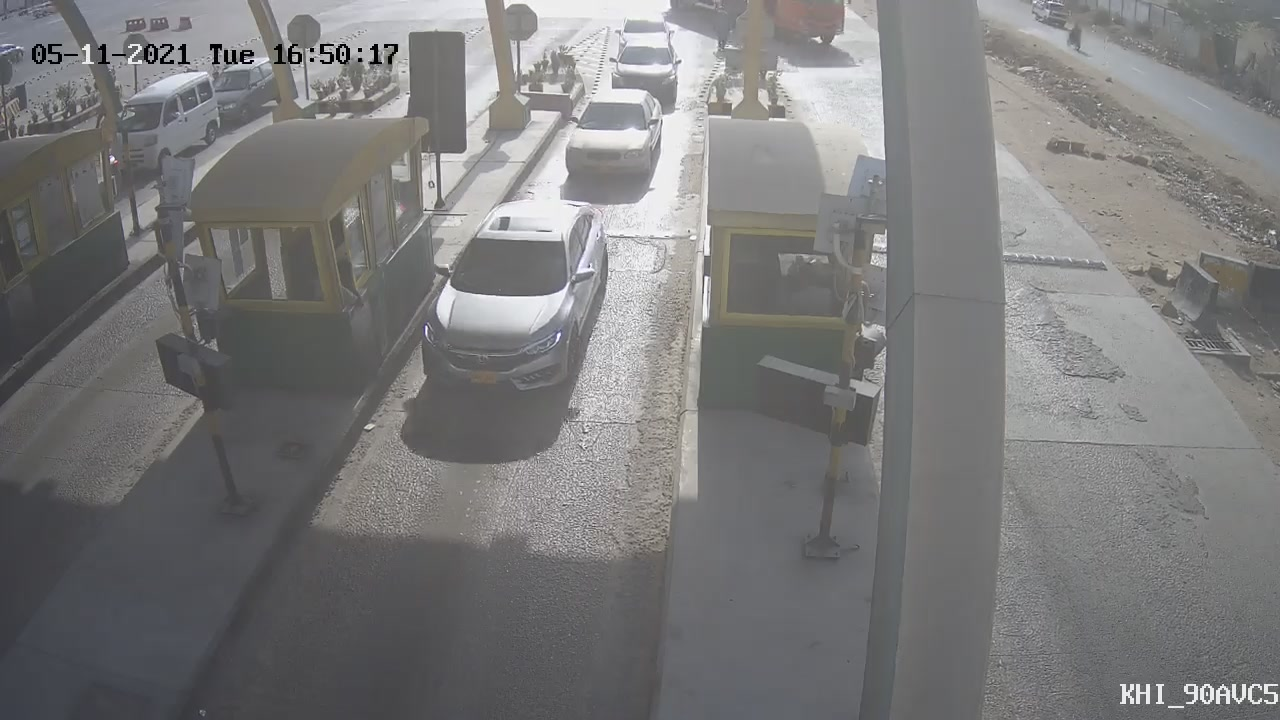F1: (398, 182, 631, 422), (548, 72, 687, 201)
